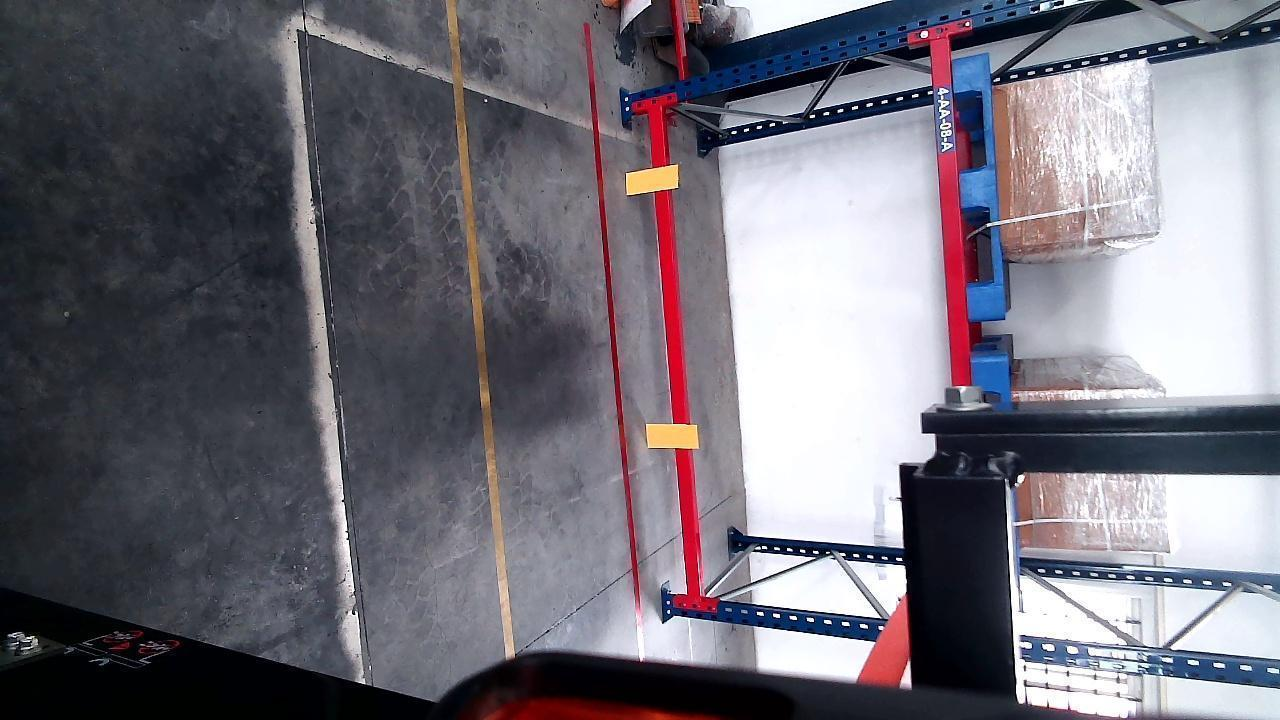red_line: (580, 21, 645, 661)
yellow_line: (443, 0, 522, 670)
